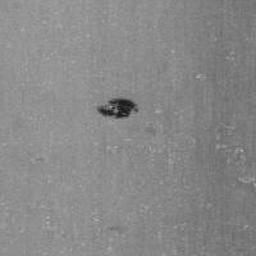Inclusion: (96, 97, 140, 120), (106, 224, 125, 236)
